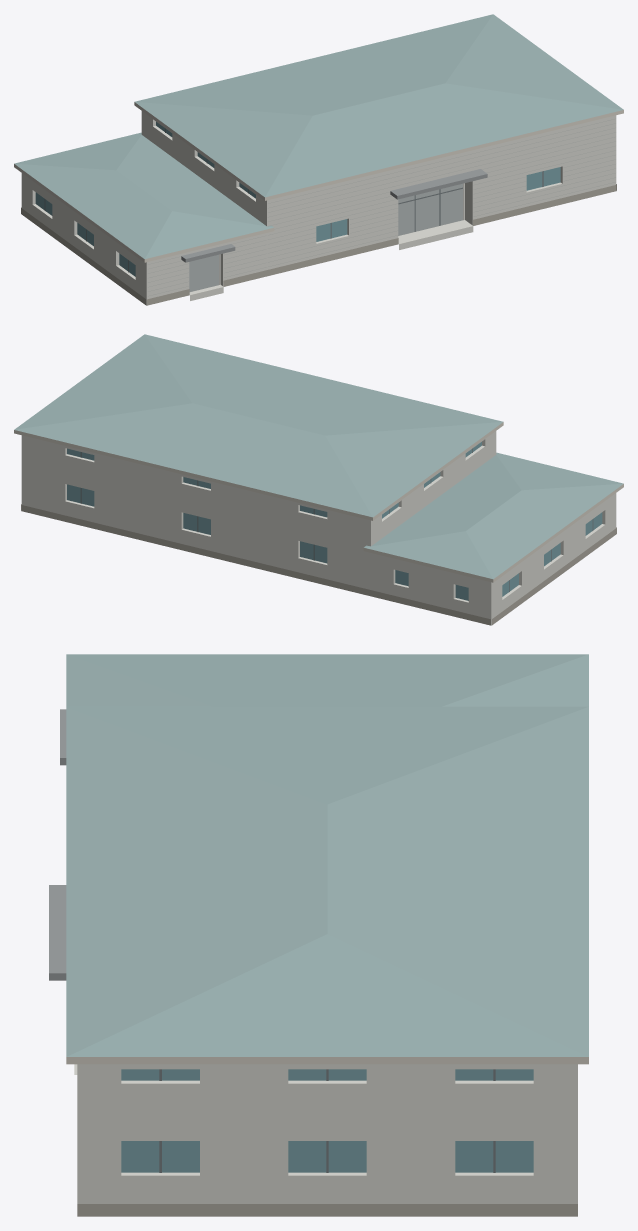
3 renders of one model, top to bottom at view 1: azimuth 30°, elevation 25°; view 2: azimuth 150°, elevation 25°; view 3: azimuth 270°, elevation 25°, orthographic. The views are drawn at different scales.
Visible parts, largest first — view 1: processing__roofAccent, processing__wall, processing__panelJoint, processing__base, processing__industrialglass, processing__trim, processing__glass, processing__canopy, processing__entranceThreshold_1; view 2: processing__roofAccent, processing__wall, processing__base, processing__glass, processing__trim; view 3: processing__roofAccent, processing__wall, processing__glass, processing__base, processing__trim, processing__canopy.
Part boxes in pixels (<box>): processing__roofAccent: <box>14,14,623,258</box>; processing__wall: <box>21,111,616,305</box>; processing__panelJoint: <box>148,118,616,296</box>; processing__base: <box>21,184,616,305</box>; processing__industrialglass: <box>189,183,462,291</box>; processing__trim: <box>14,102,623,262</box>; processing__glass: <box>35,122,560,276</box>; processing__canopy: <box>181,169,487,262</box>; processing__entranceThreshold_1: <box>398,220,473,249</box>; processing__roofAccent: <box>14,334,623,579</box>; processing__wall: <box>21,431,616,625</box>; processing__base: <box>21,504,616,625</box>; processing__glass: <box>67,442,602,600</box>; processing__trim: <box>14,422,623,582</box>; processing__roofAccent: <box>66,654,588,1056</box>; processing__wall: <box>77,1064,577,1203</box>; processing__glass: <box>121,1069,533,1172</box>; processing__base: <box>77,1204,577,1216</box>; processing__trim: <box>66,1057,588,1064</box>; processing__canopy: <box>49,709,66,980</box>.
Bounding box in the file's own units: 35.54 × 6.65 × 17.33.
